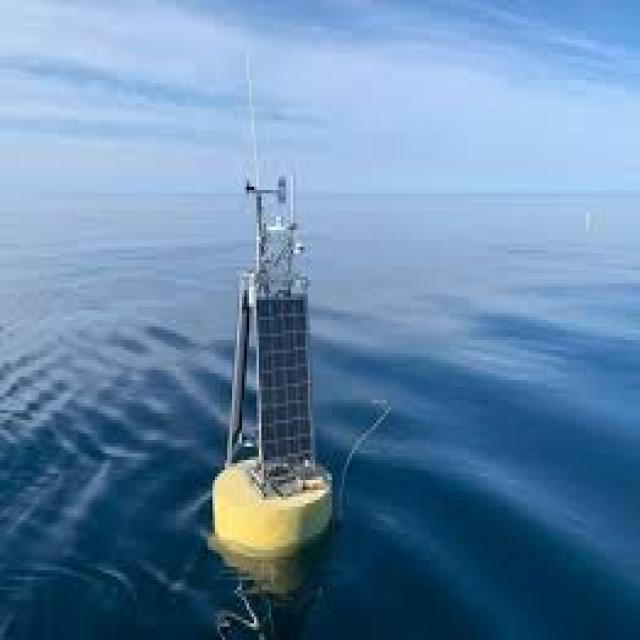2.5 sepcial mark: (204, 81, 349, 578)
